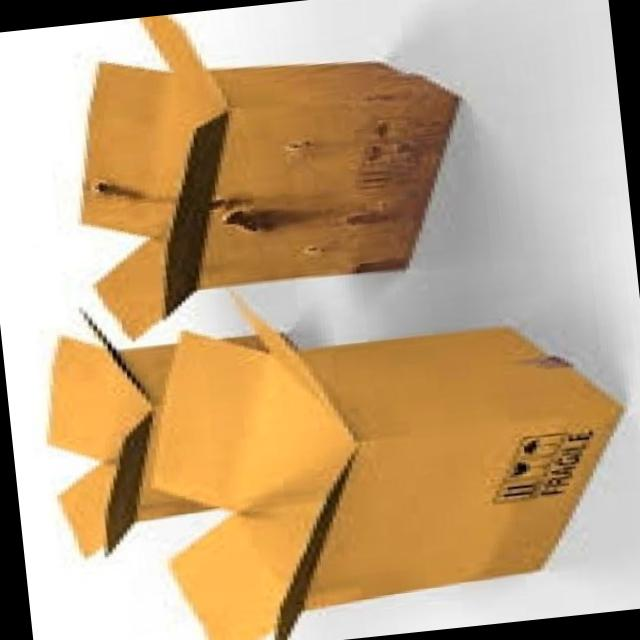cardboard paper: (46, 306, 618, 640), (46, 310, 617, 640), (79, 15, 454, 339), (79, 15, 453, 339)
